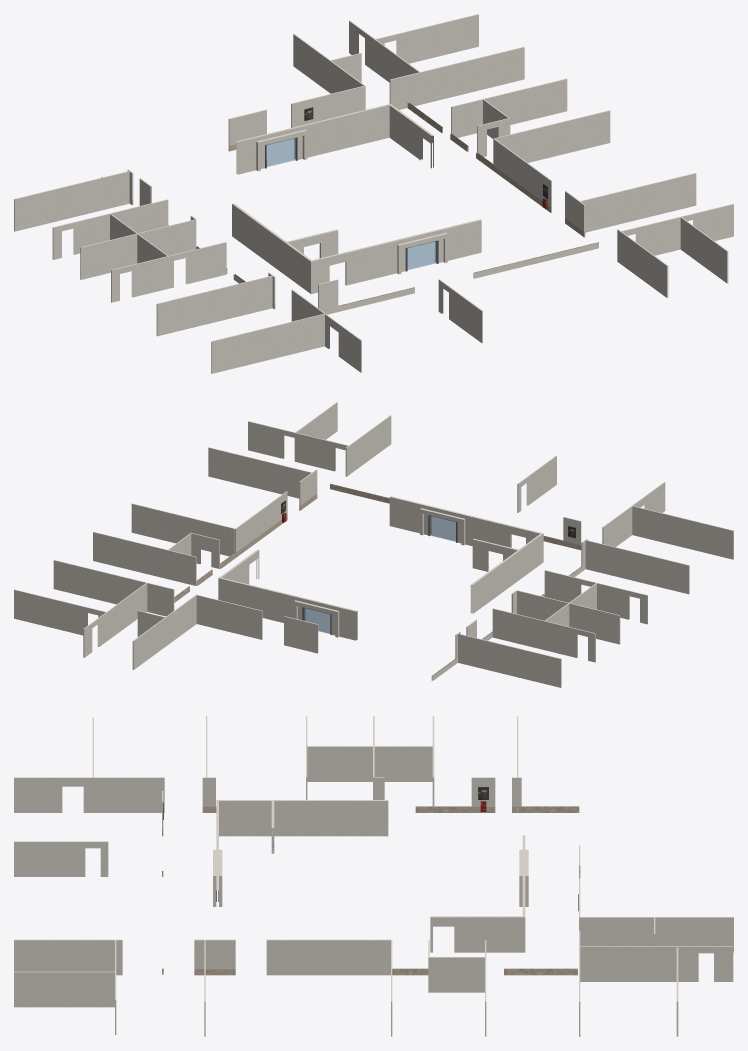
The model's file is wall 3.glb.
3 views of the same model, one above another, from view 1: azimuth 30°, elevation 25°; view 2: azimuth 150°, elevation 25°; view 3: azimuth 270°, elevation 25° (orthographic). The views are drawn at different scales.
Visible parts, largest first — view 1: 电梯间, 立方体.134, 立方体.229, 立方体.139, 立方体.242, 立方体.109, 立方体.123, 立方体.135, 立方体.216, 立方体.214, 立方体.497, 立方体.212 (+15 smaller); view 2: 电梯间, 立方体.134, 立方体.229, 立方体.139, 立方体.135, 立方体.242, 立方体.212, 立方体.109, 立方体.123, 立方体.114, 立方体.214, 立方体.497 (+14 smaller); view 3: 电梯间, 立方体.495, 立方体.089, 立方体.106, 立方体.185, 立方体.119, 立方体.108, 立方体.271, 立方体.215, 立方体.213, 立方体.447, 立方体.105 (+2 smaller).
Boxes of the visible parts, x1,y1,x2,y2 form: 电梯间: [232, 104, 481, 294]; 立方体.134: [389, 47, 524, 109]; 立方体.229: [156, 275, 272, 336]; 立方体.139: [14, 171, 130, 231]; 立方体.242: [211, 314, 324, 373]; 立方体.109: [580, 173, 696, 232]; 立方体.123: [494, 110, 610, 162]; 立方体.135: [451, 78, 567, 137]; 立方体.216: [111, 242, 226, 302]; 立方体.214: [80, 219, 195, 279]; 立方体.497: [376, 14, 478, 63]; 立方体.212: [52, 199, 168, 259]; 电梯间: [218, 496, 543, 640]; 立方体.134: [53, 560, 174, 616]; 立方体.229: [585, 540, 689, 594]; 立方体.139: [457, 633, 561, 687]; 立方体.135: [93, 531, 196, 585]; 立方体.242: [632, 506, 733, 559]; 立方体.212: [492, 608, 595, 662]; 立方体.109: [208, 447, 311, 498]; 立方体.123: [131, 503, 234, 556]; 立方体.114: [248, 421, 348, 471]; 立方体.214: [517, 590, 620, 644]; 立方体.497: [14, 589, 105, 635]; 电梯间: [213, 800, 528, 952]; 立方体.495: [580, 946, 733, 981]; 立方体.089: [14, 777, 164, 812]; 立方体.106: [266, 939, 391, 975]; 立方体.185: [579, 917, 733, 952]; 立方体.119: [14, 971, 114, 1007]; 立方体.108: [14, 939, 122, 975]; 立方体.271: [14, 841, 108, 876]; 立方体.215: [307, 746, 372, 781]; 立方体.213: [374, 746, 432, 781]; 立方体.447: [428, 957, 484, 992]; 立方体.105: [194, 939, 235, 975].
Bounding box in the file's own units: 17.52 × 1.01 × 18.64.
Materials: 6 (4 with a texture image).
